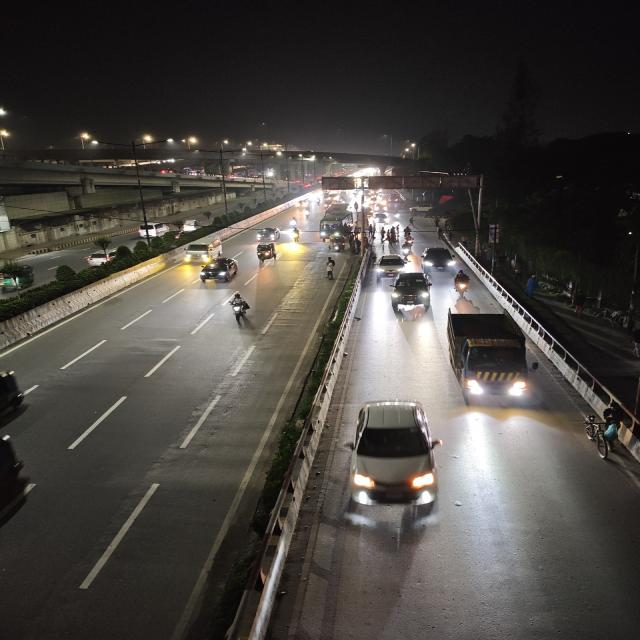bicycle: (577, 406, 628, 456)
bus: (319, 212, 350, 240)
car: (346, 394, 443, 526), (389, 270, 433, 316), (197, 256, 240, 288), (84, 246, 131, 270), (420, 245, 460, 273), (182, 240, 222, 264), (373, 254, 406, 282), (136, 221, 170, 239), (252, 225, 282, 243), (407, 203, 431, 213), (372, 213, 391, 224)
cng: (254, 243, 280, 263), (328, 235, 348, 253)
motorcycle: (222, 291, 256, 327), (452, 269, 473, 297), (401, 240, 415, 259), (289, 226, 303, 244), (391, 208, 402, 222), (288, 215, 299, 228)
pedestrian: (322, 256, 339, 280), (379, 228, 386, 242), (408, 216, 416, 228), (368, 224, 373, 237)
truck: (445, 309, 530, 408)
